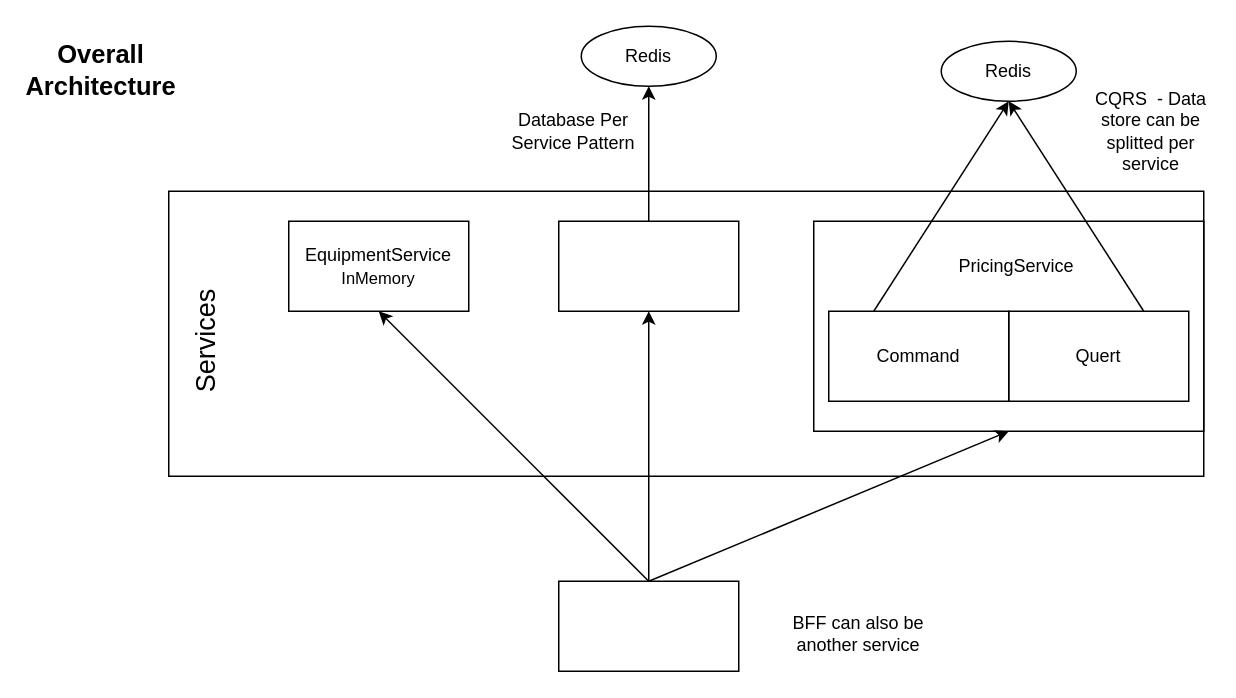
This 1236x698 diagram has some shape labels left out. Each missing label, with the centre of its shape:
"BasketService" goes at point (648, 265).
"MVC -Frontend & BFF" goes at point (648, 625).
